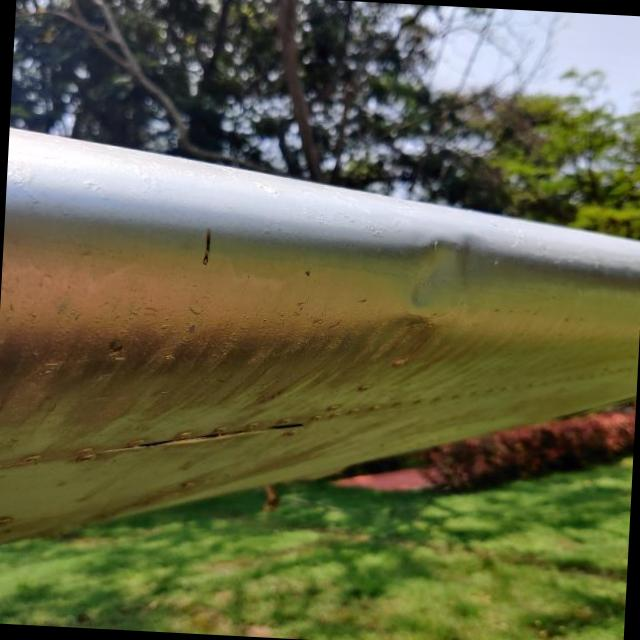Dent: (389, 236, 499, 318)
